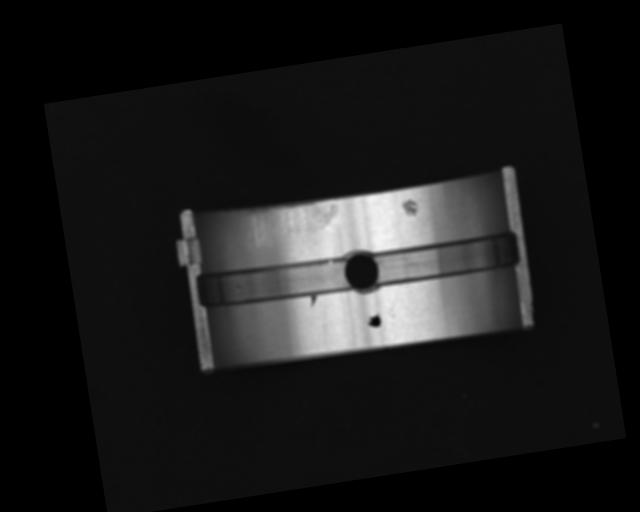blot: (365, 312, 382, 329)
bruise: (399, 197, 421, 219), (308, 294, 320, 307)
gap: (196, 250, 352, 313), (367, 229, 524, 289)
hole: (339, 246, 382, 296)
nick: (318, 310, 330, 344)
scratch: (241, 196, 342, 245)
